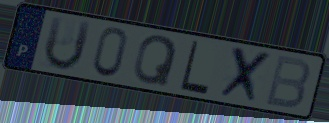0: (92, 26, 130, 79)
B: (262, 53, 312, 111)
L: (178, 39, 211, 97)
Q: (131, 33, 180, 88)
U: (42, 14, 95, 73)
X: (215, 44, 275, 107)
